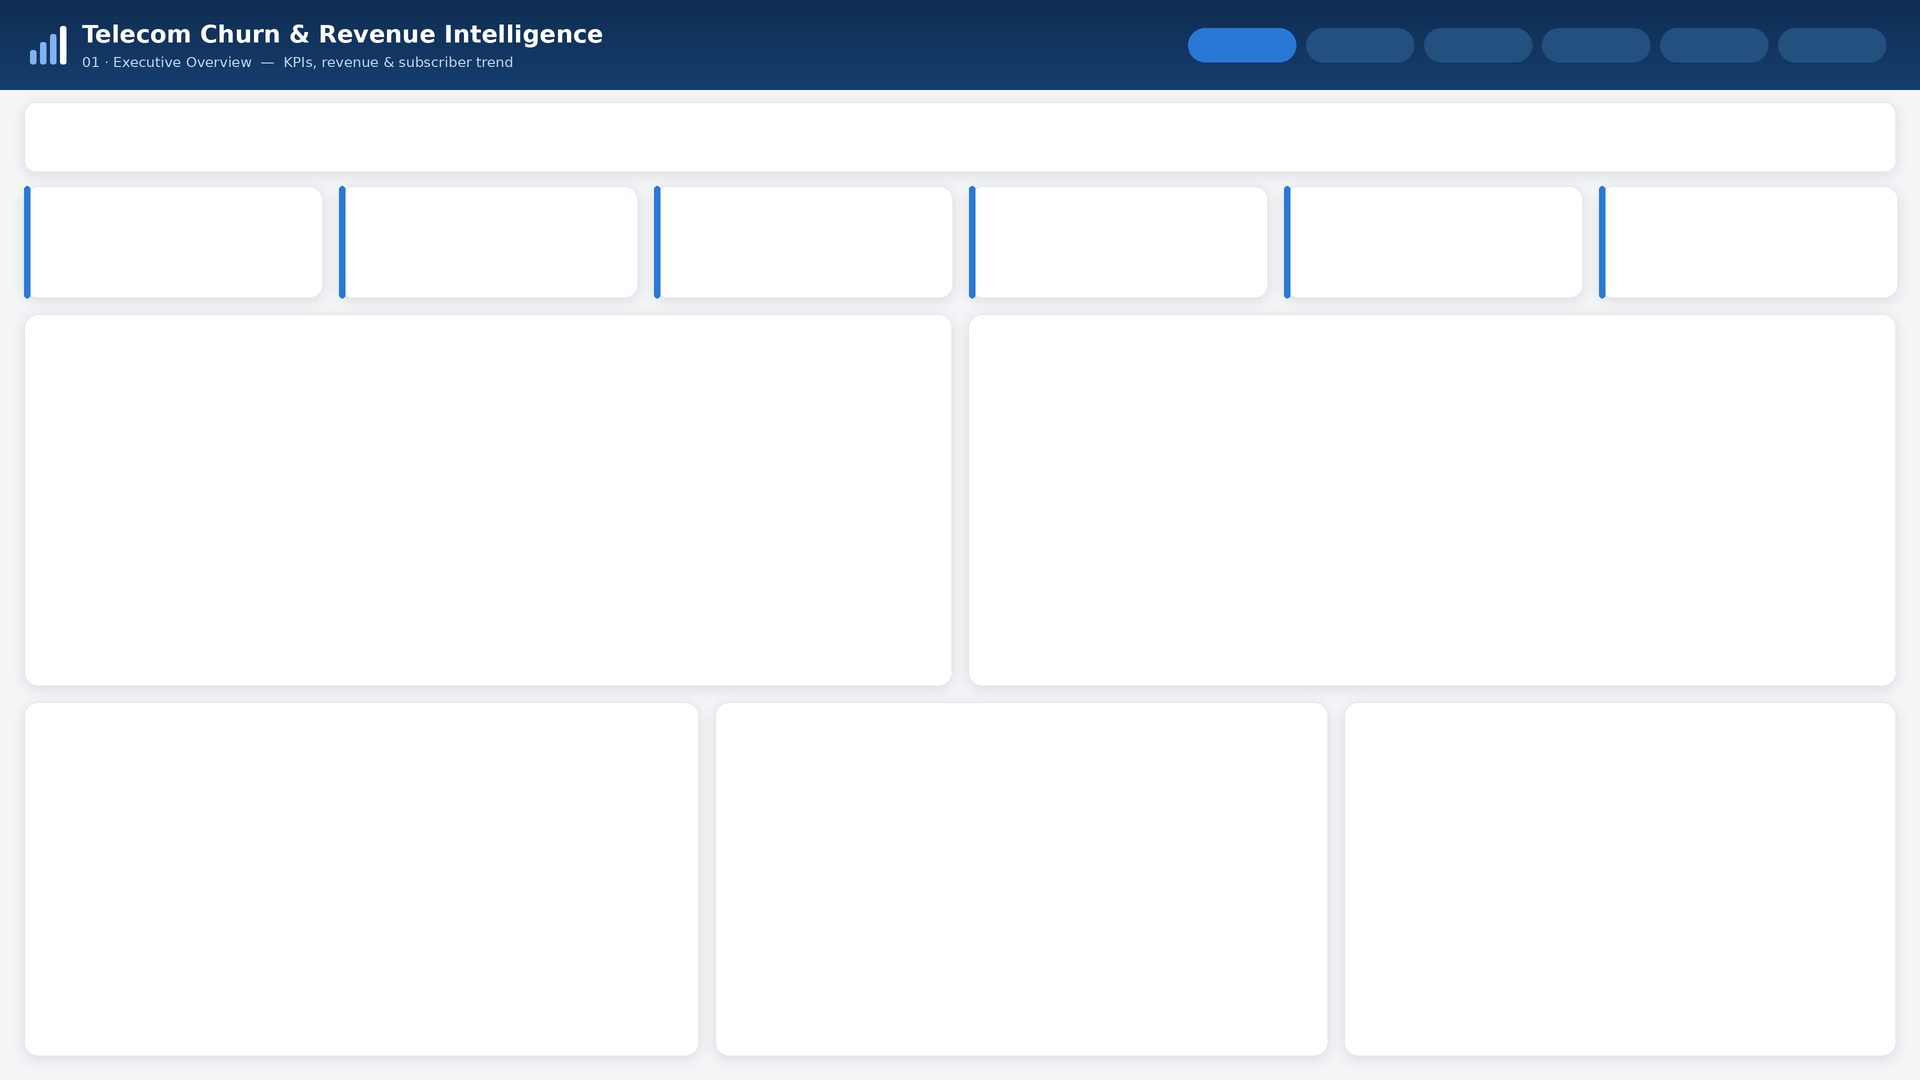

The dashboard page shown, as its layout file describes it:
{"tool":"powerbi","page":{"name":"Executive Overview","canvas":[1280,720],"ordinal":0},"visuals":[{"type":"slicer","fields":{"Values":["dim_date.fiscal_year"]},"box":[26,69,299.5,44.7],"z":0},{"type":"slicer","fields":{"Values":["dim_geography.circle"]},"box":[335.5,69,299.5,44.7],"z":1000},{"type":"slicer","fields":{"Values":["dim_customer.service_type"]},"box":[645,69,299.5,44.7],"z":2000},{"type":"slicer","fields":{"Values":["dim_customer.contract_type"]},"box":[954.5,69,299.5,44.7],"z":3000},{"type":"card","fields":{"Values":["_Measures.Total Customers"]},"box":[28,128,183.3,66.7],"z":4000},{"type":"card","fields":{"Values":["_Measures.Active Customers"]},"box":[238,128,183.3,66.7],"z":5000},{"type":"card","fields":{"Values":["_Measures.Churn Rate %"]},"box":[448,128,183.3,66.7],"z":6000},{"type":"card","fields":{"Values":["_Measures.Total Revenue"]},"box":[658,128,183.3,66.7],"z":7000},{"type":"card","fields":{"Values":["_Measures.ARPU"]},"box":[868,128,183.3,66.7],"z":8000},{"type":"card","fields":{"Values":["_Measures.Revenue at Risk"]},"box":[1078,128,183.3,66.7],"z":9000},{"type":"lineChart","title":"Monthly revenue - billed vs collected","fields":{"Category":["dim_date.month_start"],"Y":["_Measures.Total Revenue","_Measures.Revenue Collected"]},"box":[20,213.3,610.7,240],"z":10000},{"type":"clusteredColumnChart","title":"New vs churned subscribers","fields":{"Category":["dim_date.month_start"],"Y":["_Measures.New Subscribers","_Measures.Churned in Period"]},"box":[649.3,213.3,610.7,240],"z":11000},{"type":"clusteredBarChart","title":"Churn rate by contract","fields":{"Category":["dim_customer.contract_type"],"Y":["_Measures.Churn Rate %"]},"box":[20,472,442,228],"z":12000},{"type":"clusteredBarChart","title":"Churn rate by circle","fields":{"Category":["dim_geography.circle"],"Y":["_Measures.Churn Rate %"]},"box":[480.7,472,400.7,228],"z":13000},{"type":"donutChart","title":"Revenue at risk by tier","fields":{"Category":["fact_churn_predictions.risk_tier"],"Y":["_Measures.Revenue at Risk"]},"box":[900,472,360,228],"z":14000}]}

Visuals, with their boxes in screenshot pixels (x1, y1, x2, y2), scaled from the page's 1280x720 canvas onto the 1920x1080 screenshot:
slicer - dim_date.fiscal_year: (x1=39, y1=104, x2=488, y2=171)
slicer - dim_geography.circle: (x1=503, y1=104, x2=952, y2=171)
slicer - dim_customer.service_type: (x1=968, y1=104, x2=1417, y2=171)
slicer - dim_customer.contract_type: (x1=1432, y1=104, x2=1881, y2=171)
card - _Measures.Total Customers: (x1=42, y1=192, x2=317, y2=292)
card - _Measures.Active Customers: (x1=357, y1=192, x2=632, y2=292)
card - _Measures.Churn Rate %: (x1=672, y1=192, x2=947, y2=292)
card - _Measures.Total Revenue: (x1=987, y1=192, x2=1262, y2=292)
card - _Measures.ARPU: (x1=1302, y1=192, x2=1577, y2=292)
card - _Measures.Revenue at Risk: (x1=1617, y1=192, x2=1892, y2=292)
"Monthly revenue - billed vs collected" lineChart: (x1=30, y1=320, x2=946, y2=680)
"New vs churned subscribers" clusteredColumnChart: (x1=974, y1=320, x2=1890, y2=680)
"Churn rate by contract" clusteredBarChart: (x1=30, y1=708, x2=693, y2=1050)
"Churn rate by circle" clusteredBarChart: (x1=721, y1=708, x2=1322, y2=1050)
"Revenue at risk by tier" donutChart: (x1=1350, y1=708, x2=1890, y2=1050)
